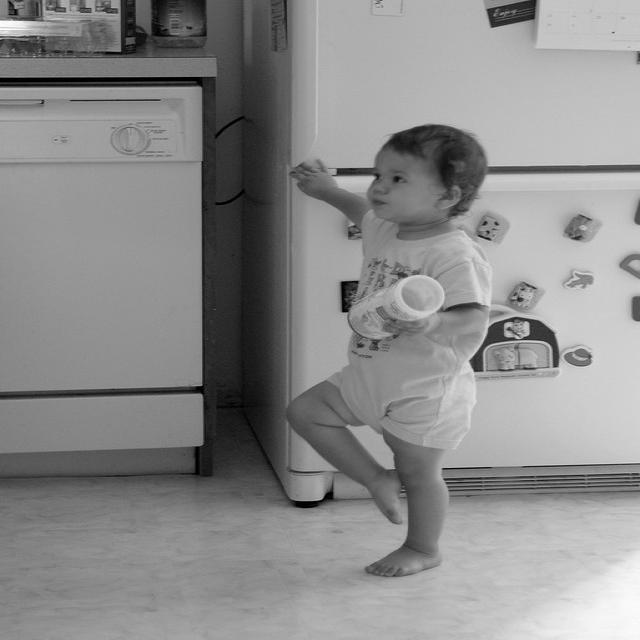monkey: (284, 124, 493, 576)
